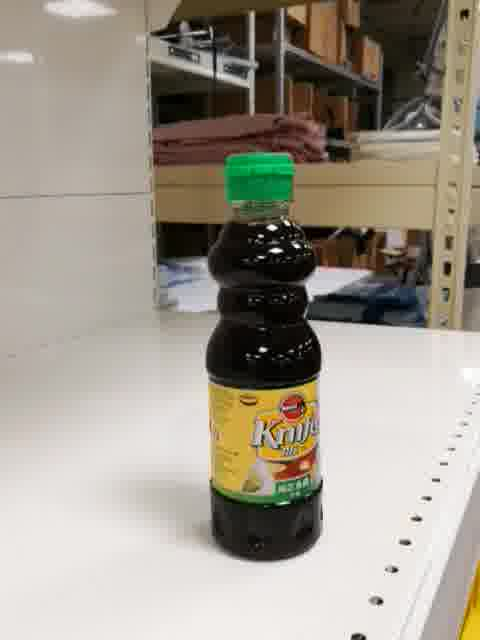cookingoil: (202, 151, 325, 566)
